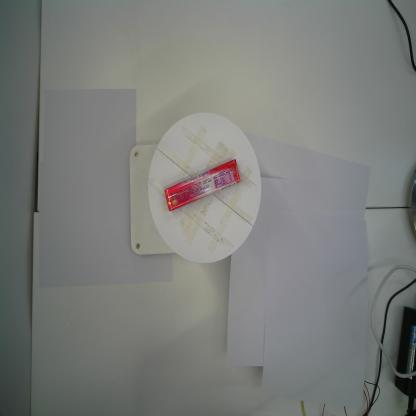Candy: (164, 158, 242, 213)
